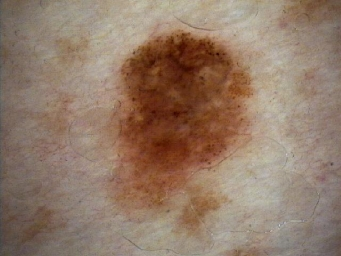melanoma: (113, 31, 253, 219)
